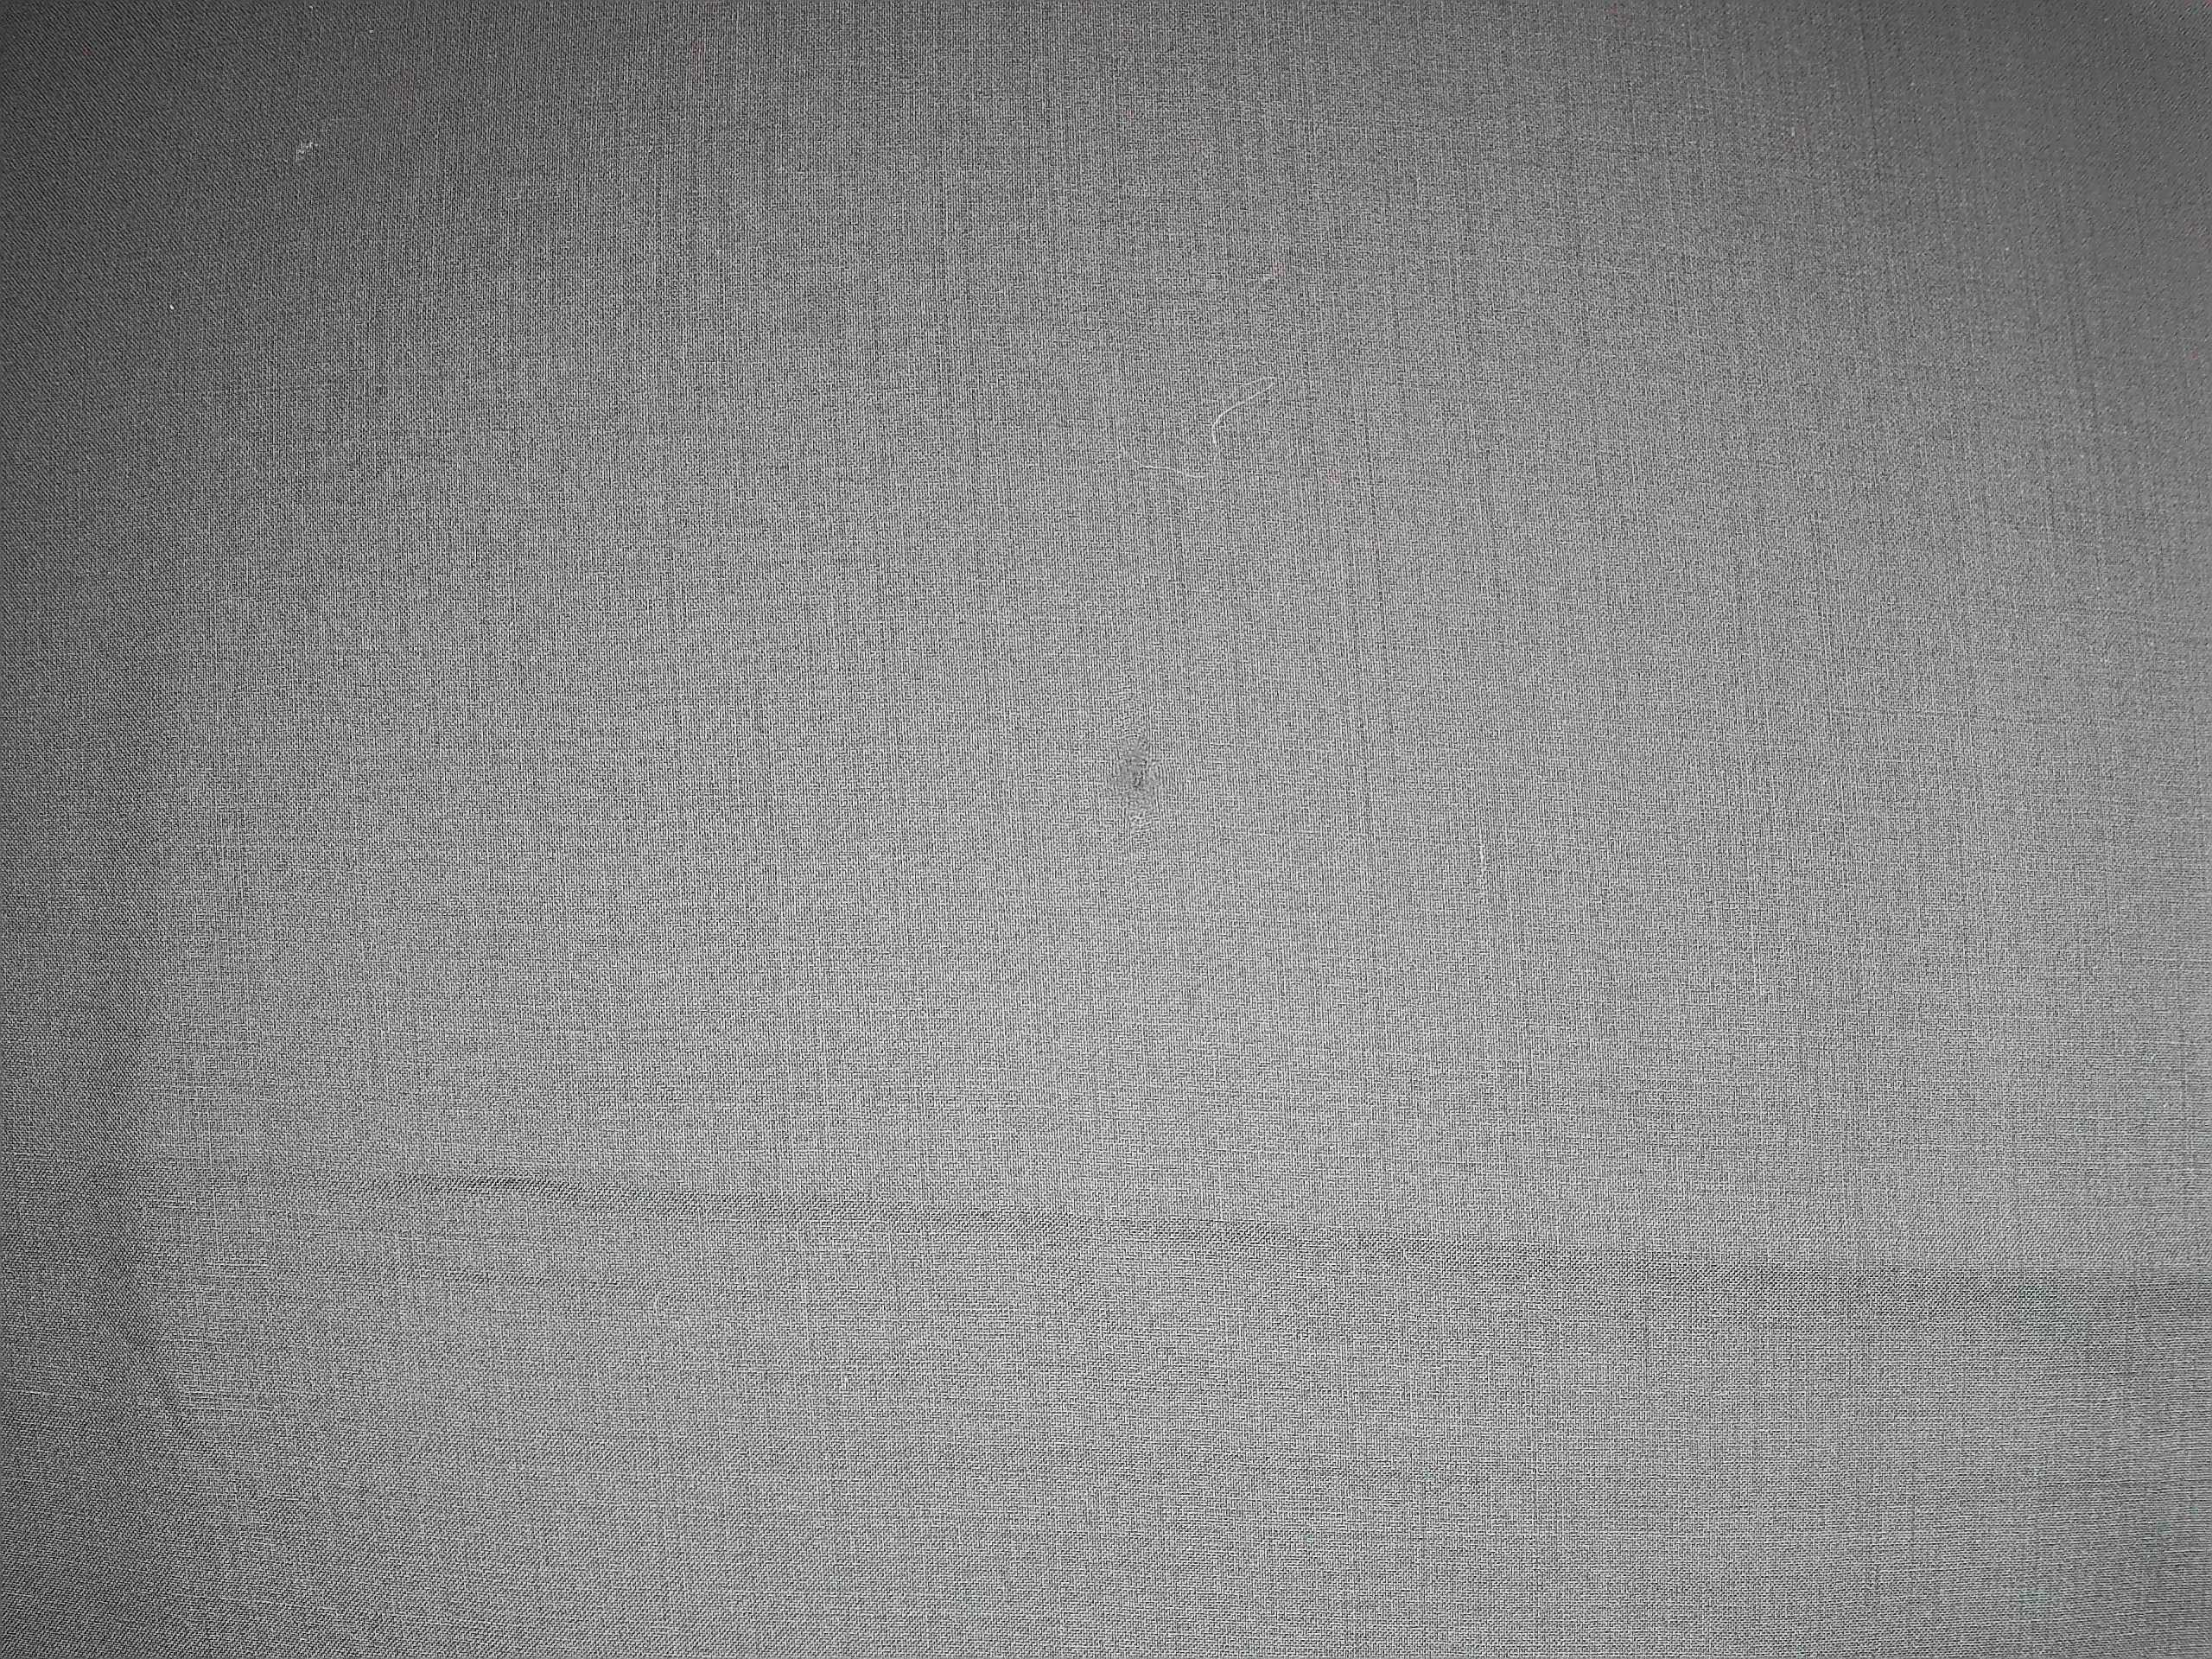brushed-hole: (1099, 732, 1174, 823)
